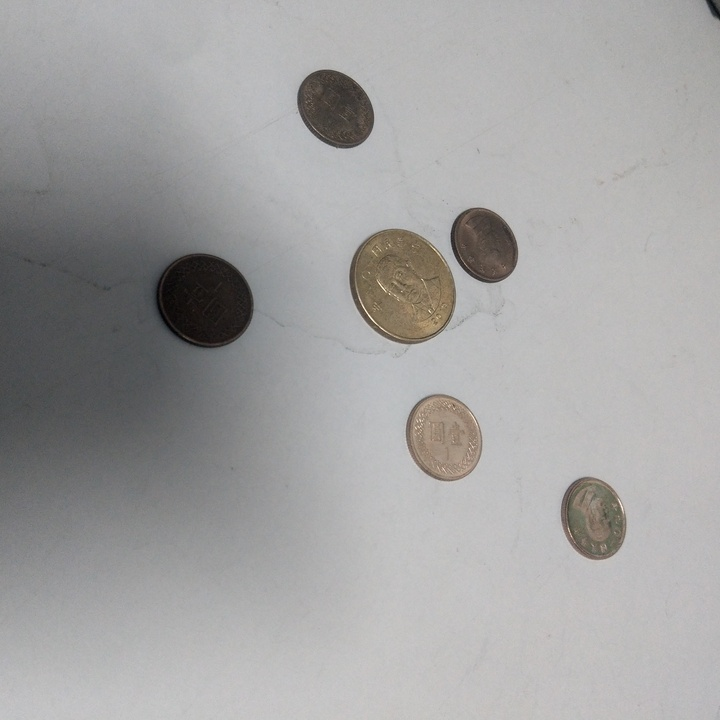1 dollar: (156, 251, 253, 351), (406, 391, 486, 482), (296, 67, 376, 151), (558, 474, 631, 564), (452, 209, 520, 285)
50 dollar: (351, 229, 456, 345)
